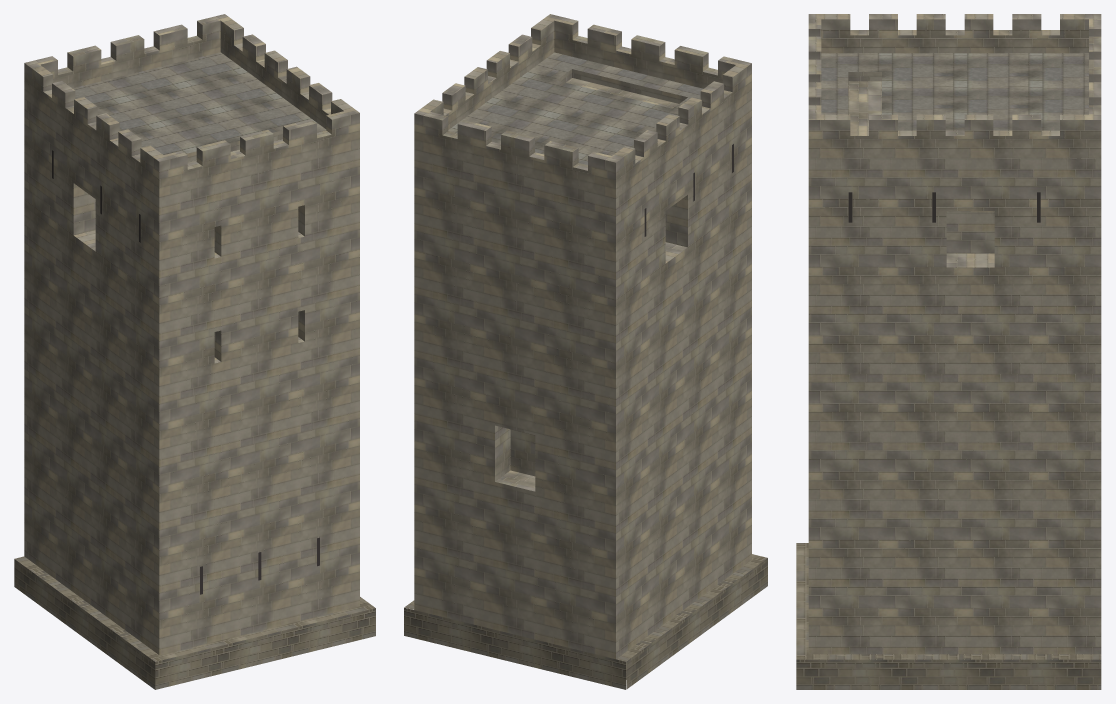
The model's file is fort-tower-square.zfix-v9.lod1.glb.
3 views of the same model, side by side, from view 1: azimuth 30°, elevation 25°; view 2: azimuth 150°, elevation 25°; view 3: azimuth 270°, elevation 25° (orthographic). The views are drawn at different scales.
Visible parts, largest first — view 1: fort-tower-square; view 2: fort-tower-square; view 3: fort-tower-square.
Part boxes in pixels (<box>): fort-tower-square: <box>14,14,375,689</box>; fort-tower-square: <box>404,14,767,689</box>; fort-tower-square: <box>796,14,1101,689</box>.
Bounding box in the file's own units: 13.2 × 29.8 × 14.61.
4 materials, 3 textured.
